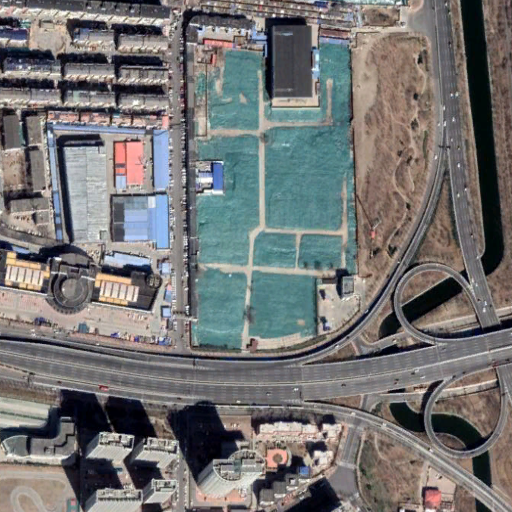cw: (190, 36, 358, 349)
